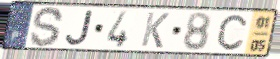4: (105, 9, 131, 49)
8: (181, 11, 212, 52)
C: (216, 13, 249, 52)
J: (65, 9, 96, 47)
K: (139, 11, 172, 50)
S: (28, 5, 65, 49)
